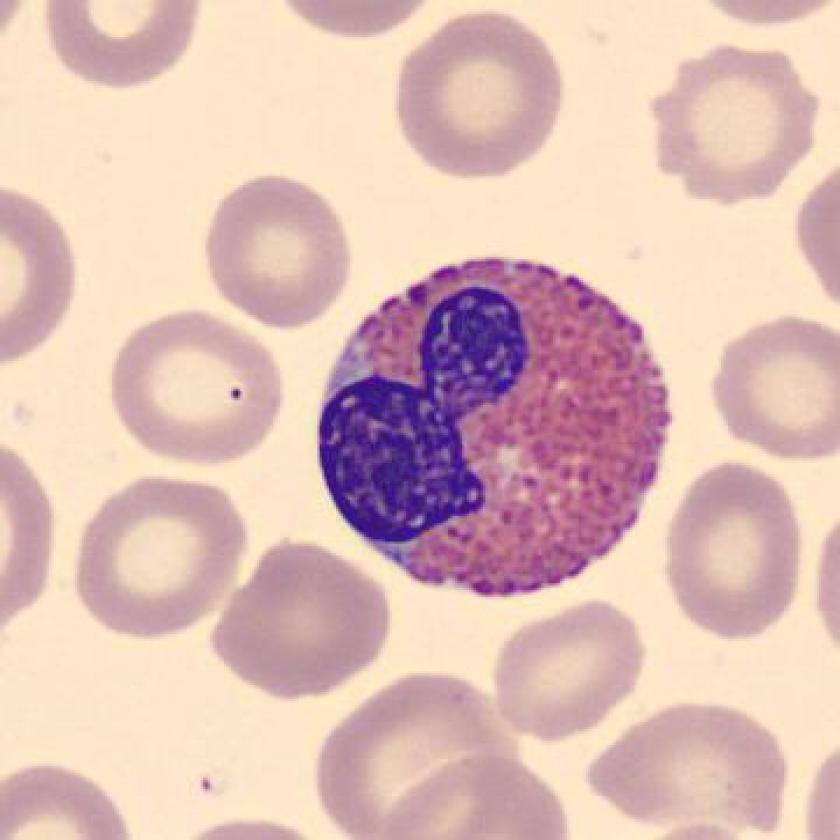eosinophil: (312, 242, 683, 610)
